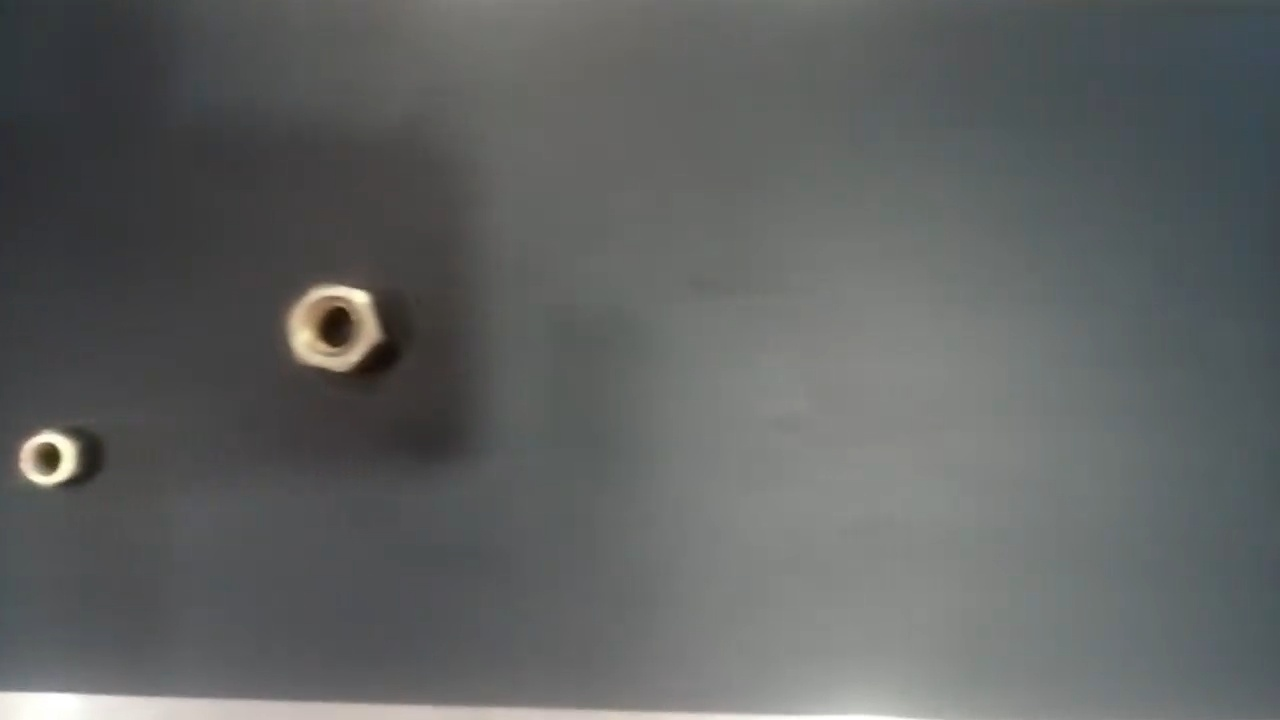Bolt: (283, 282, 393, 378), (19, 423, 90, 492)
